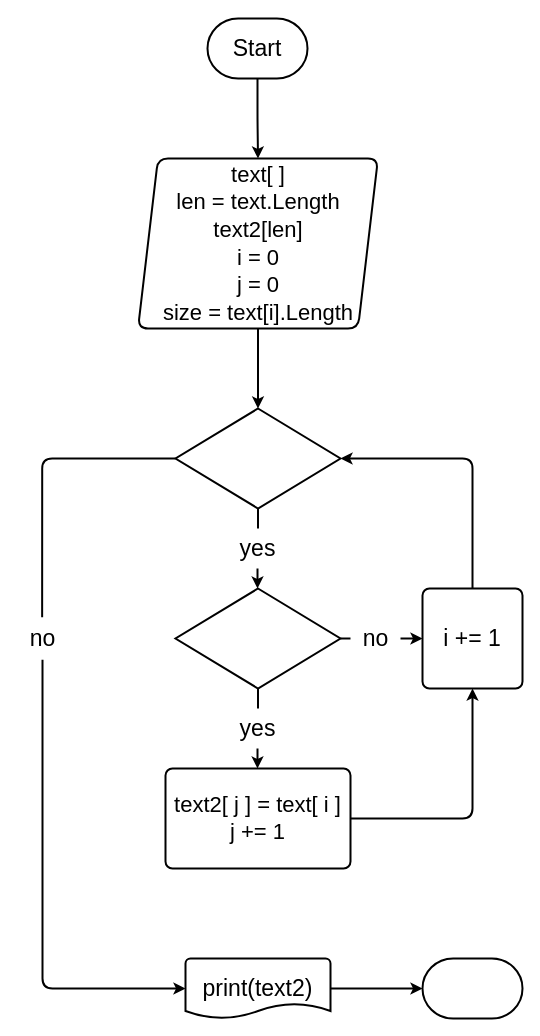
Some shapes in this 540 by 1036 pixel diagram are drawn without their labels. The shapes that lost their labels are listed below. From the top down, each one's box as (x1, y1, x2, y2) in pixels, then its label:
(174, 407, 341, 509): i < len
(174, 587, 341, 689): size <= 3
(421, 957, 523, 1019): end
